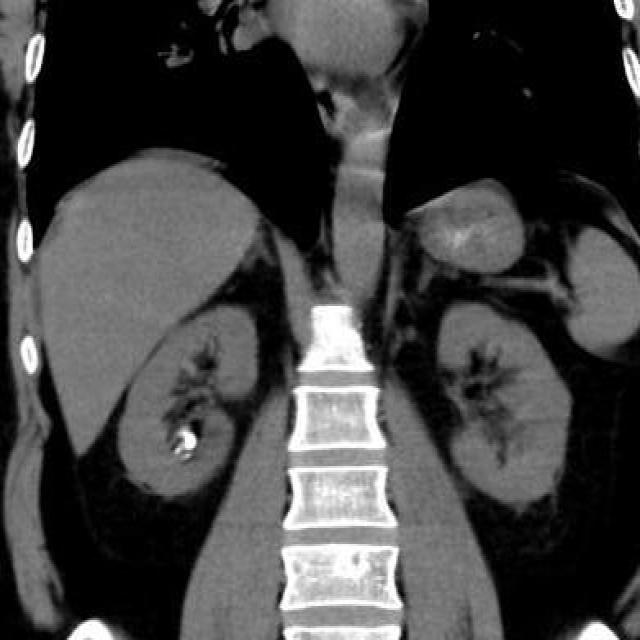Tas_Var: (182, 431, 198, 453), (183, 451, 193, 459), (174, 446, 182, 456), (183, 428, 189, 438)
